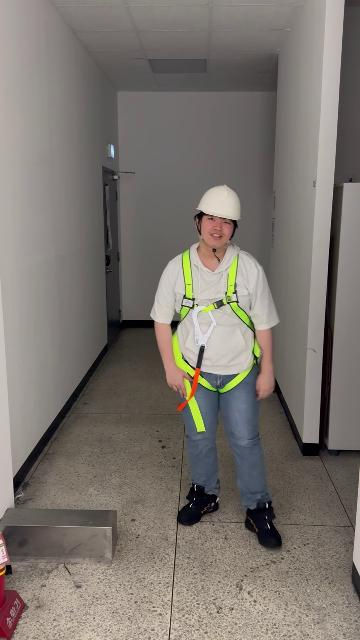helmet_worn: (194, 185, 242, 224)
shoe_worn: (177, 483, 219, 525), (245, 502, 281, 548)
vest_worn: (169, 253, 261, 428)
